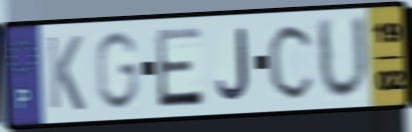C: (265, 21, 317, 103)
E: (153, 24, 206, 110)
G: (92, 29, 141, 113)
J: (213, 25, 252, 103)
K: (44, 33, 87, 113)
U: (313, 12, 372, 105)
